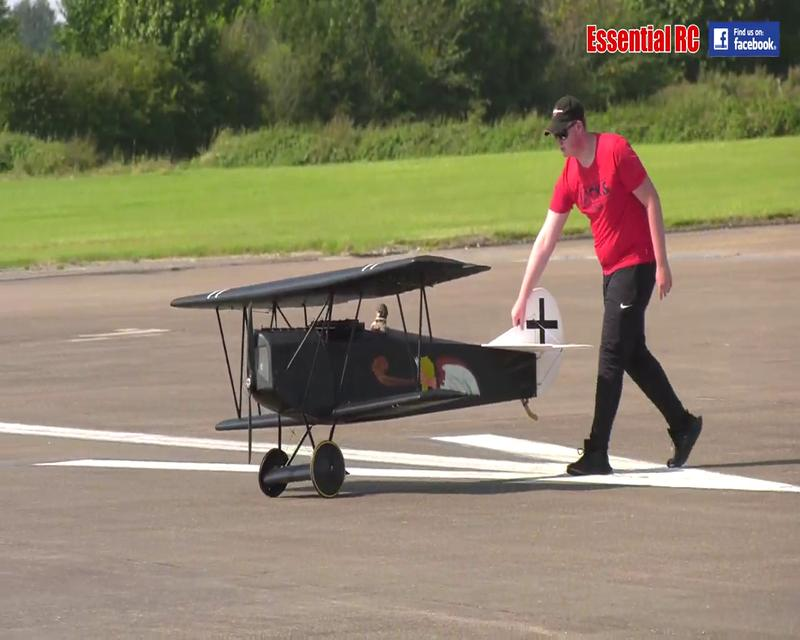UAV: (169, 255, 595, 500), (585, 22, 701, 54)
